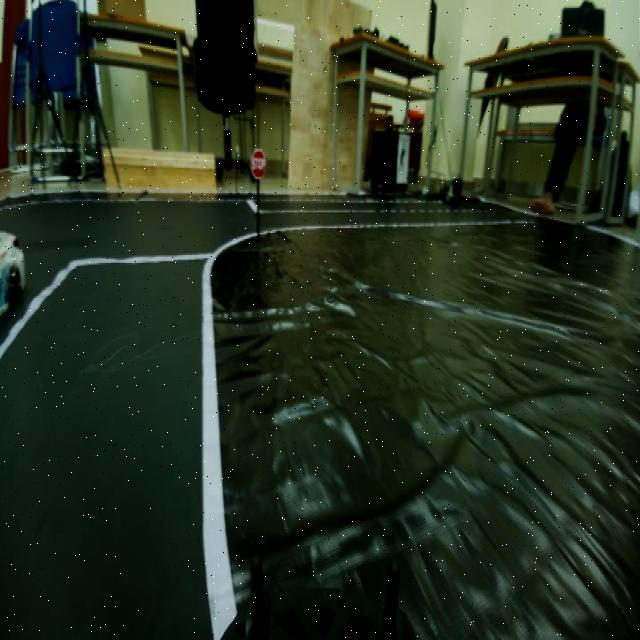stop: (247, 143, 270, 183)
